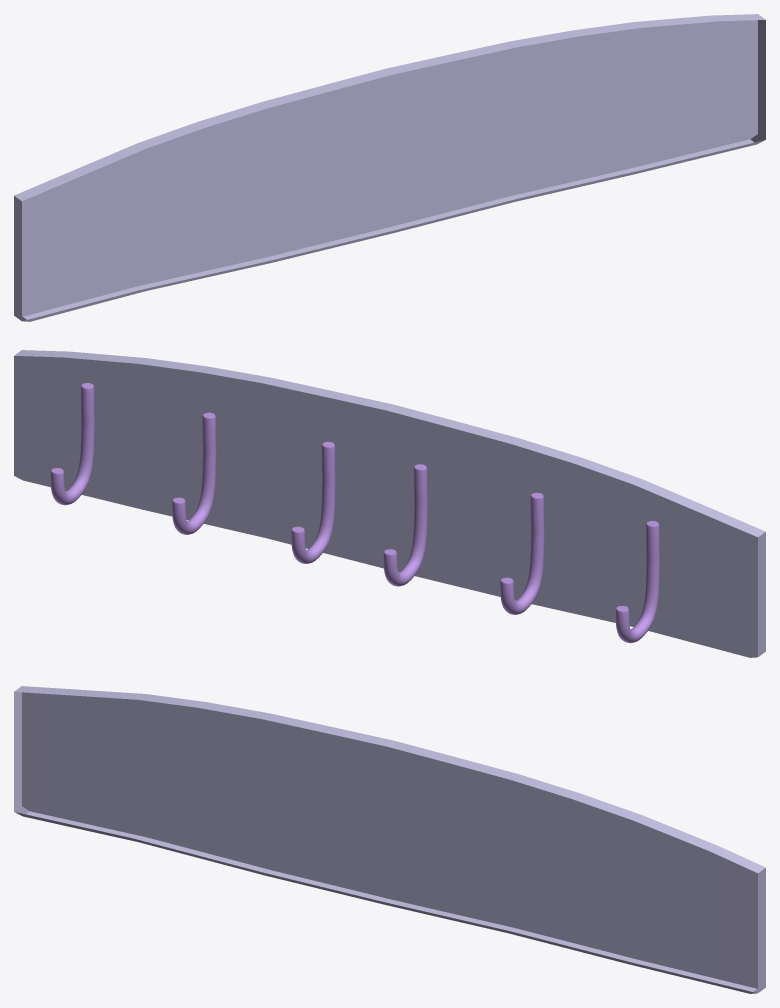
File: Friday_WallRack.fbx
3 views of the same model, one above another, from view 1: azimuth 30°, elevation 25°; view 2: azimuth 150°, elevation 25°; view 3: azimuth 330°, elevation 25° (orthographic).
Visible parts, largest first — view 1: Shelf; view 2: Shelf, Hooks; view 3: Shelf.
Part boxes in pixels (left/top/right/bottom): Shelf: left=14, top=14, right=765, bottom=321; Shelf: left=14, top=350, right=765, bottom=657; Hooks: left=50, top=383, right=659, bottom=643; Shelf: left=14, top=686, right=765, bottom=993.
Bounding box in the file's own units: 549 × 112 × 59.35.
